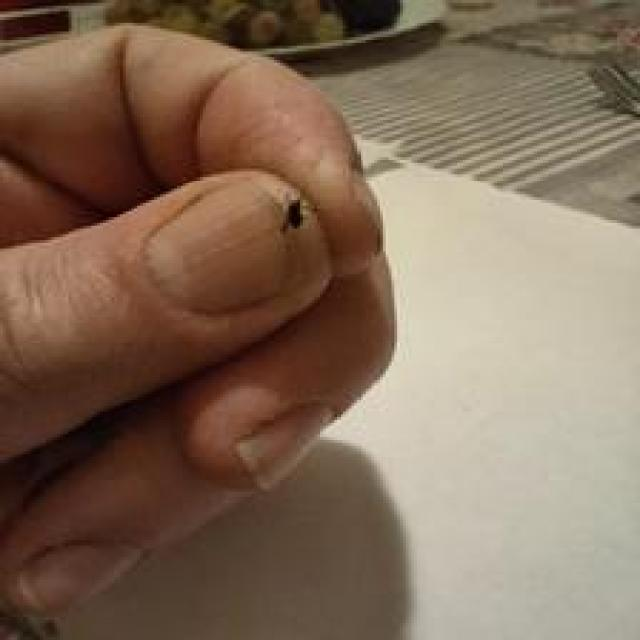Aedes albopictus: (100, 0, 403, 49)
